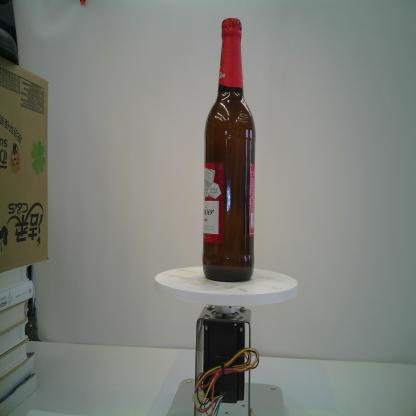Alcohol: (200, 15, 258, 284)
